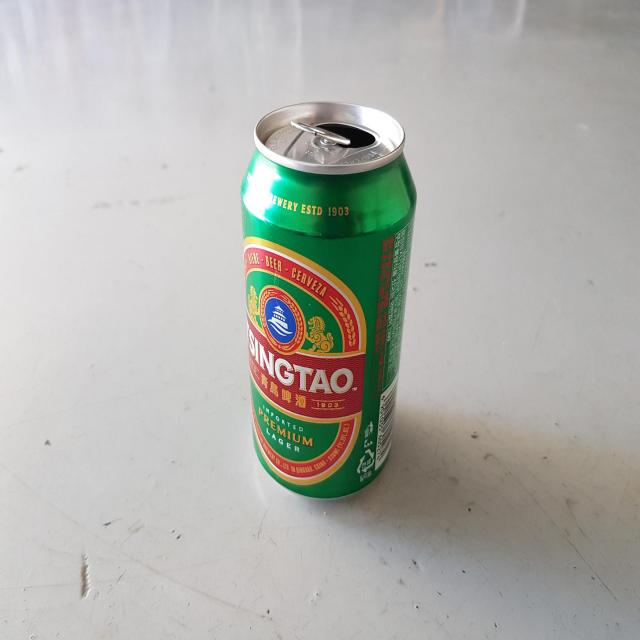can: (241, 101, 417, 498)
